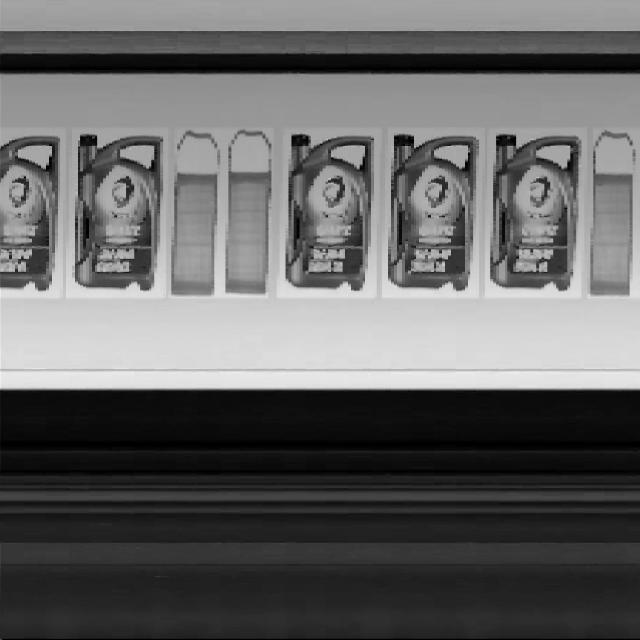air_filter: (166, 126, 224, 304), (589, 124, 640, 302), (224, 124, 276, 293)
motor_oil: (384, 133, 482, 298), (490, 124, 582, 294), (72, 126, 164, 296), (286, 132, 376, 296), (0, 123, 65, 296)
